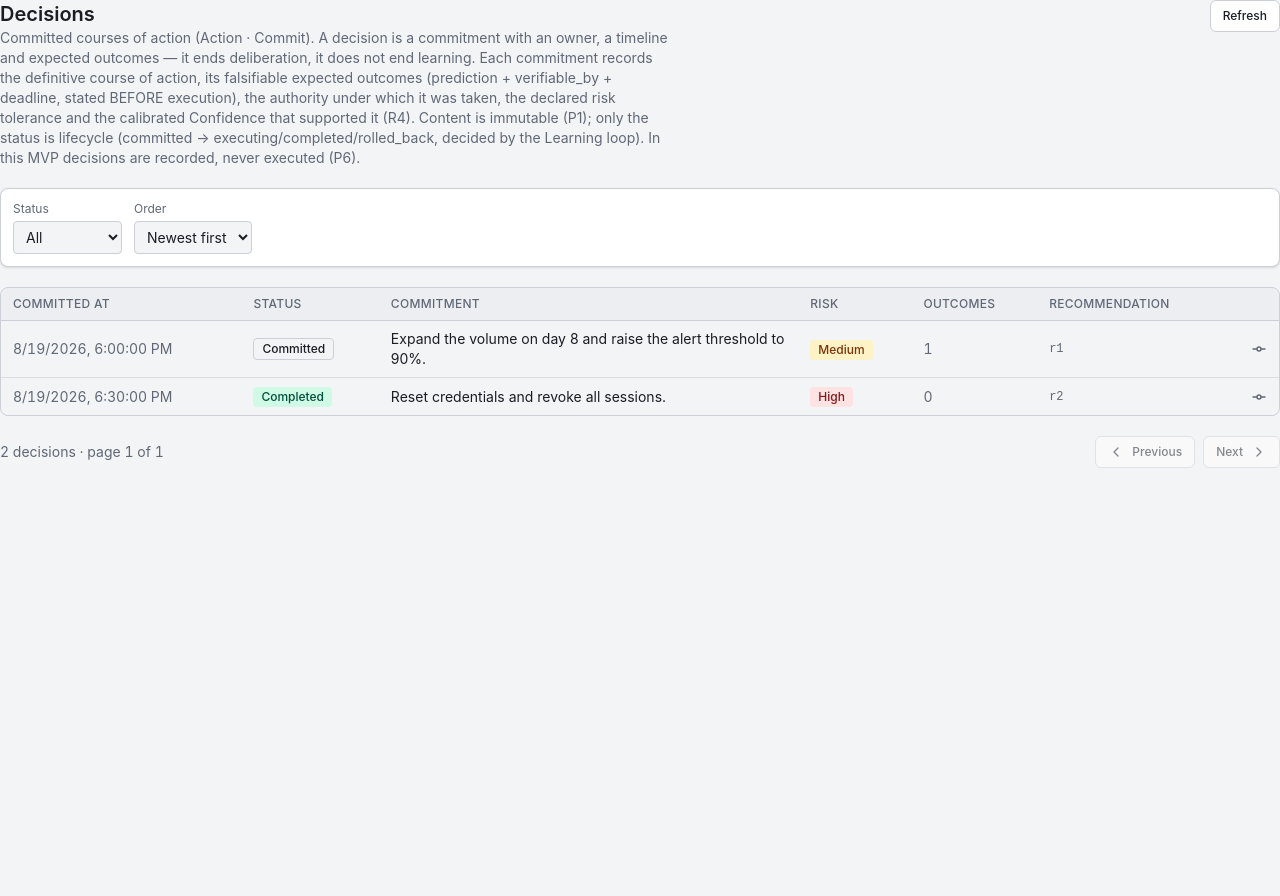
DecisionsPage › opens the detail drawer with commitment, expected outcomes, recommendation and confidence
This screenshot has width=1280, height=896.
Click the text "Expand the volume on day 8 and raise the alert threshold to 90%." at (589, 349), box [379, 320, 798, 378]
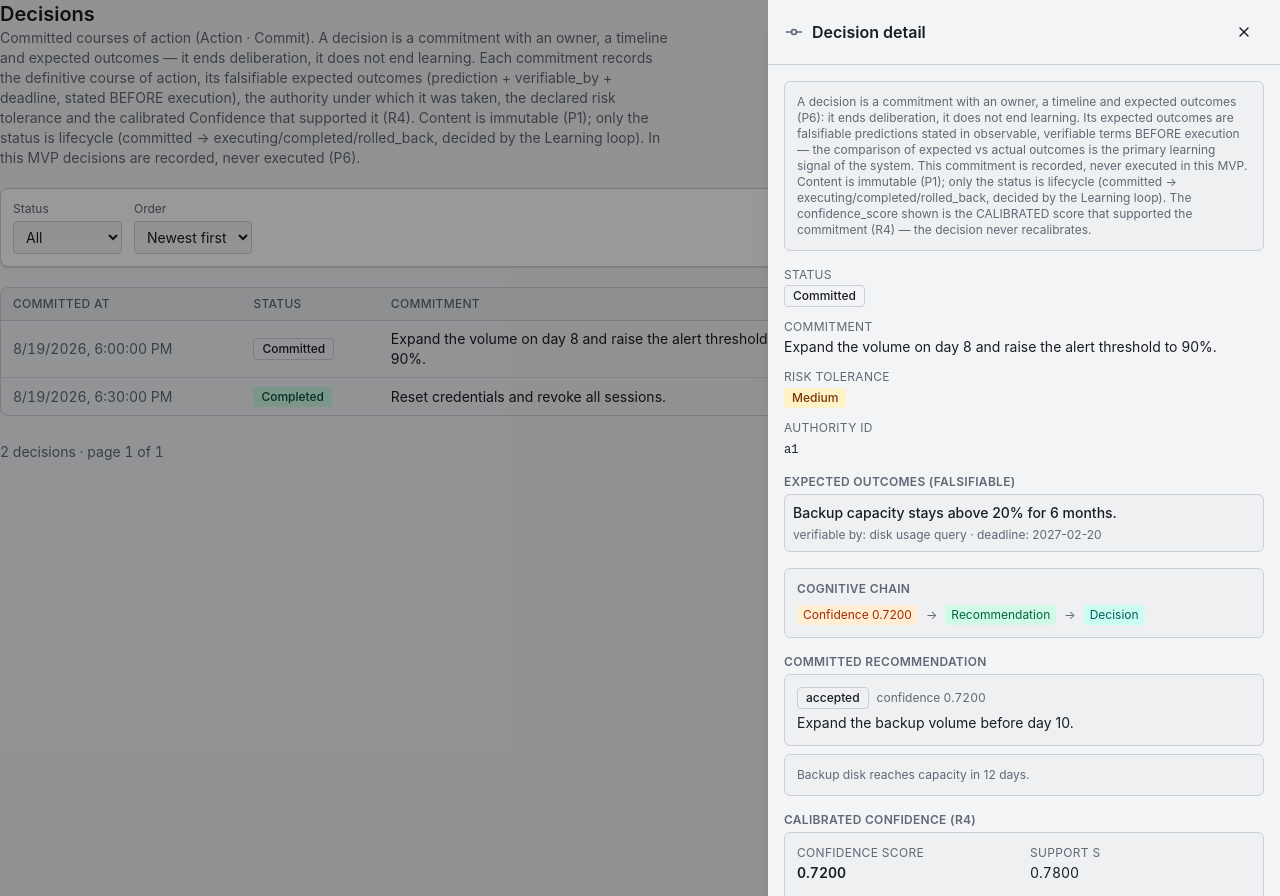
Result: the text "Expand the volume on day 8 and raise the alert threshold to 90%." is shown at [784, 337, 1264, 357]
Result: the heading "Expected outcomes (falsifiable)" is shown at [784, 474, 1016, 489]
Result: the text "Backup capacity stays above 20% for 6 months." is shown at [793, 504, 1117, 521]
